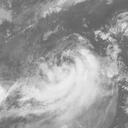cyclone: (22, 47, 99, 119)
